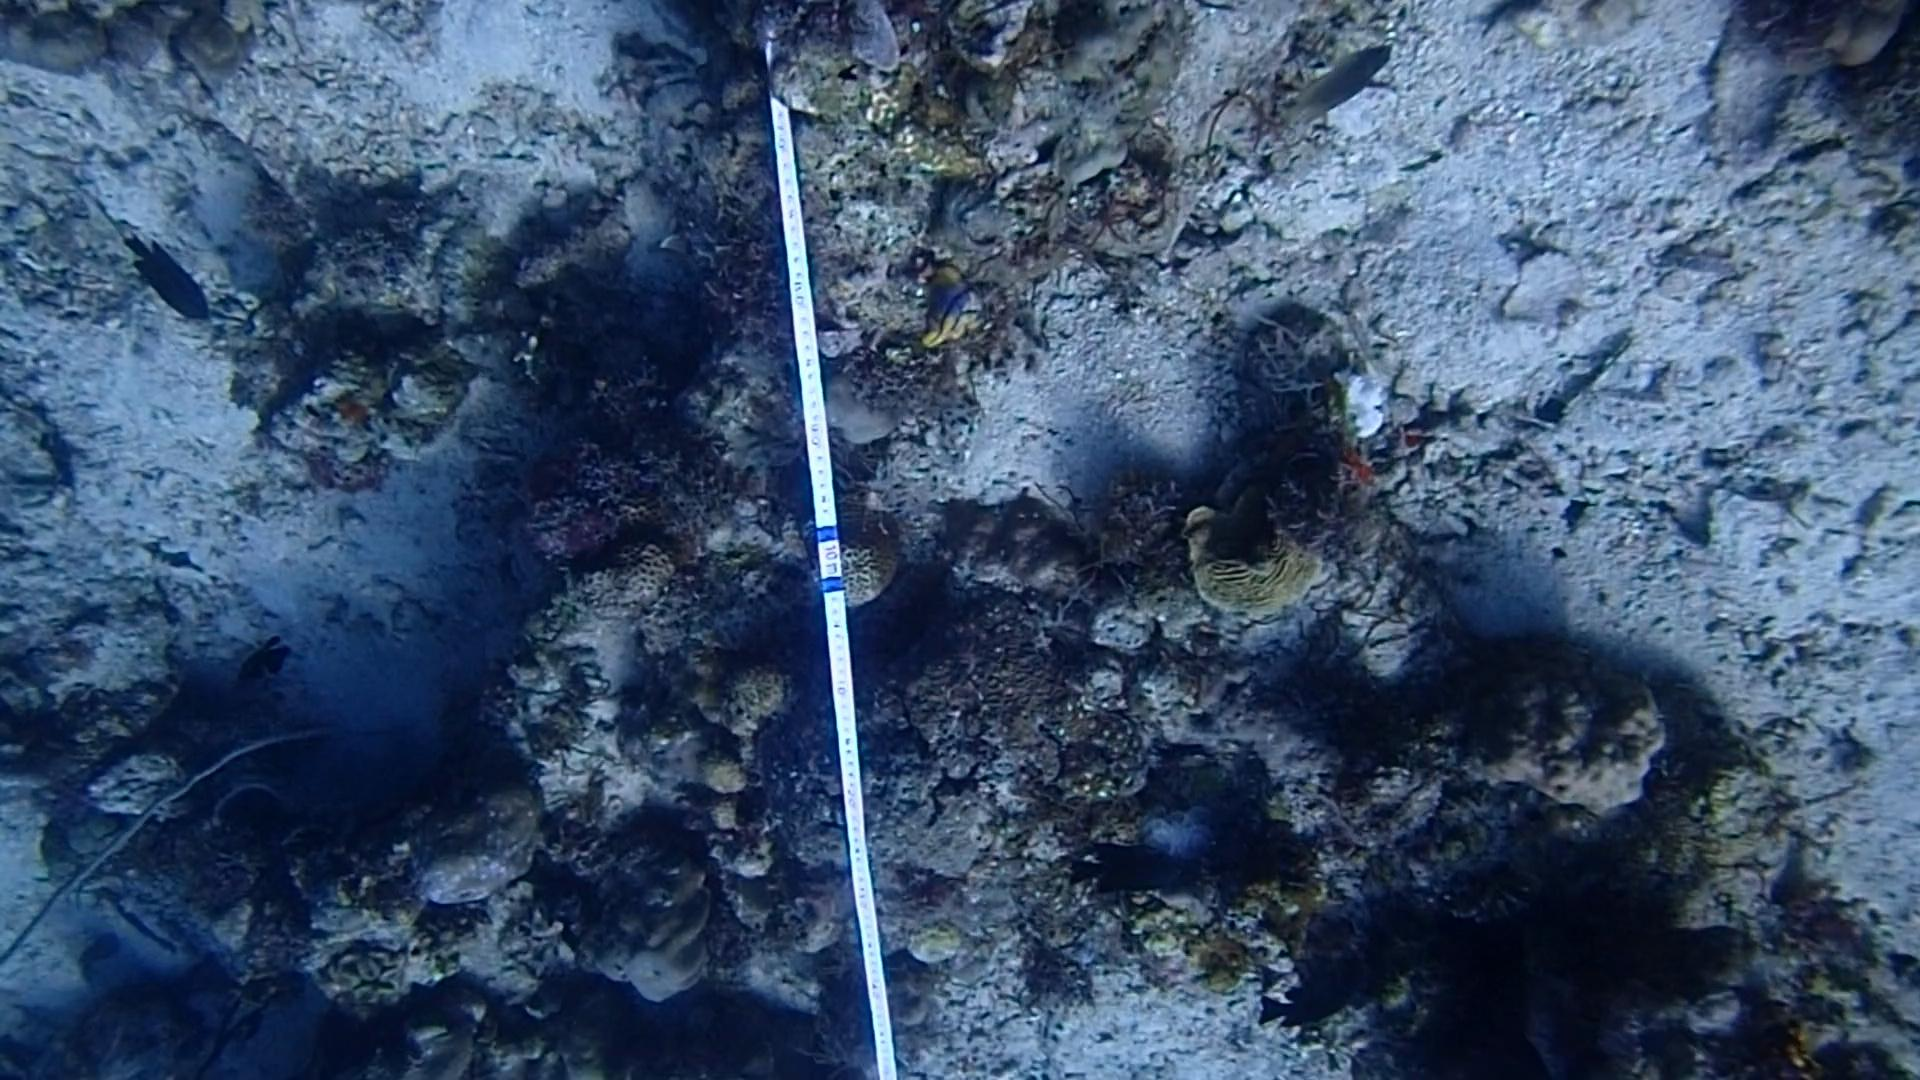Dark Fish: (121, 223, 216, 332), (1244, 971, 1370, 1035), (1073, 836, 1182, 907), (231, 626, 303, 699)
Light Fish: (1274, 34, 1407, 149)
